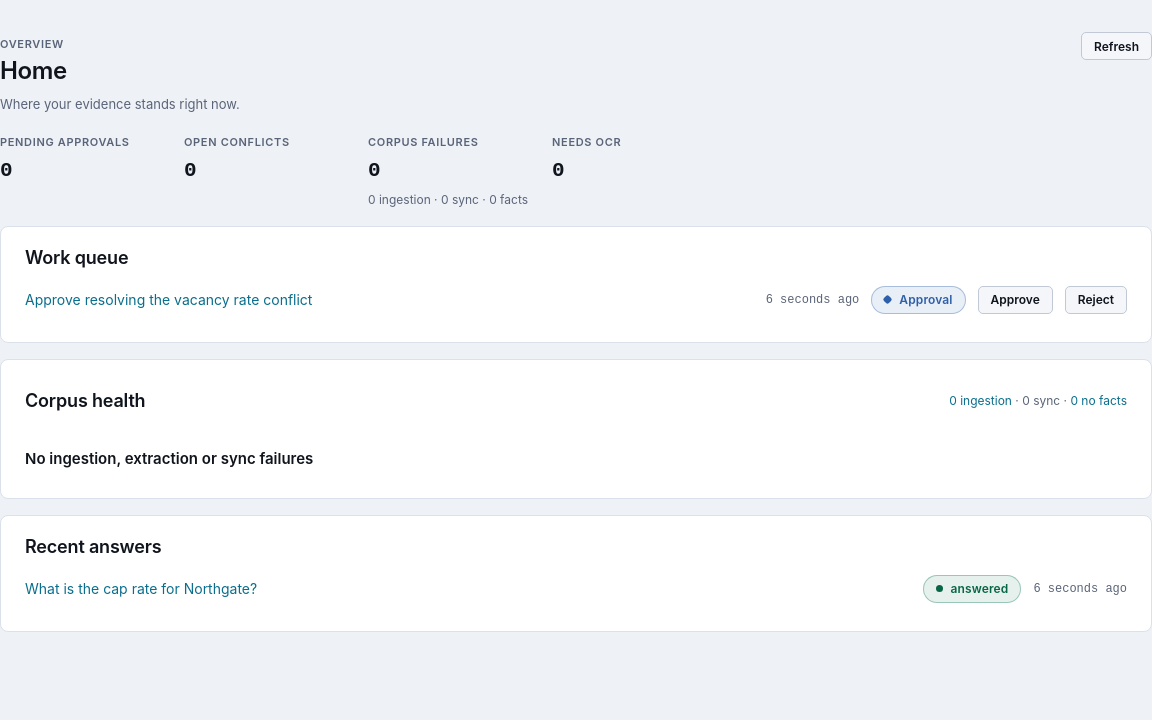
it: HomePage › says the decision was recorded, not that a workflow resumes, for an approval with no workflowId
This screenshot has width=1152, height=720.
Expected: the list item "Approve resolving the vacancy rate conflict" is shown, [25,289,312,311]
Step 1. Click the button with aria-label "Approve, Approve resolving the vacancy rate conflict" → (1015,300), box [978,286,1053,314]
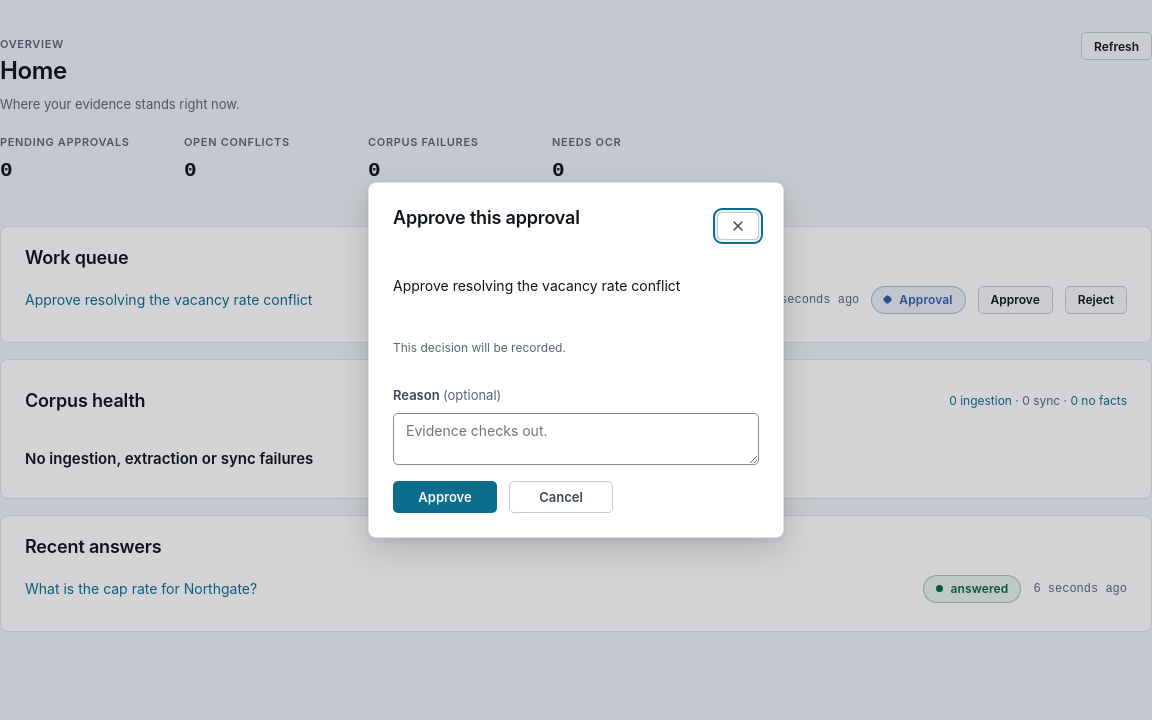
Step 2. Click the button "Approve" → (445,498), box [393,482,497,514]
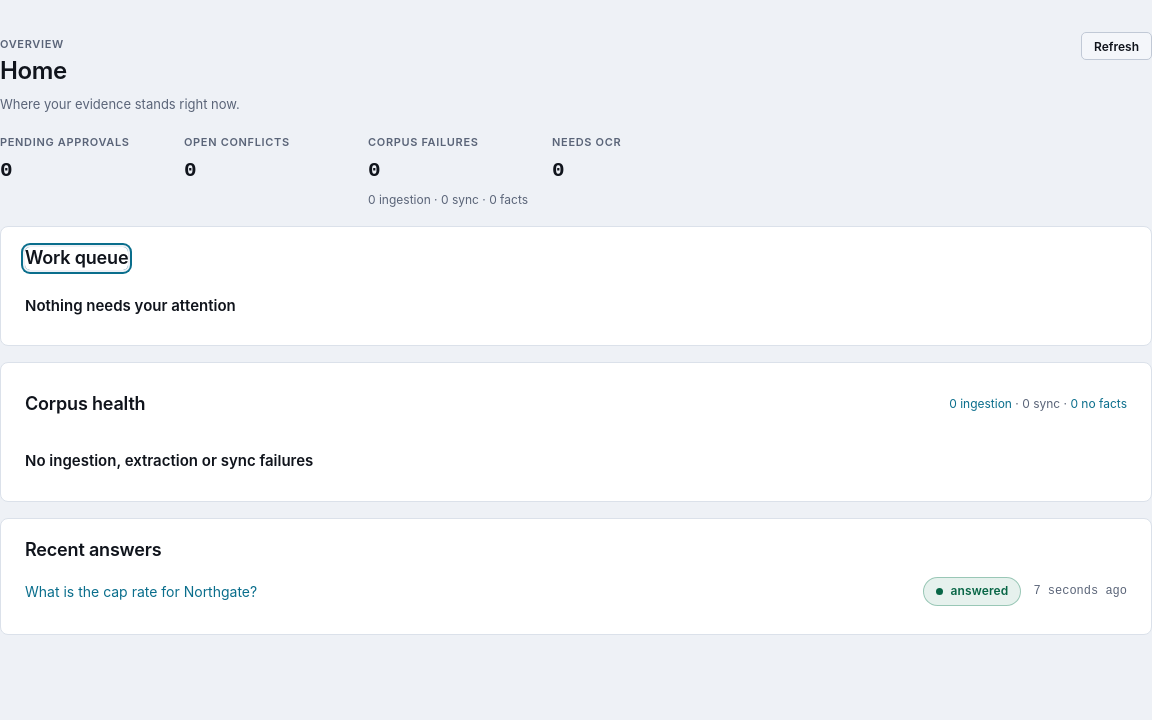
Result: the dialog is gone
